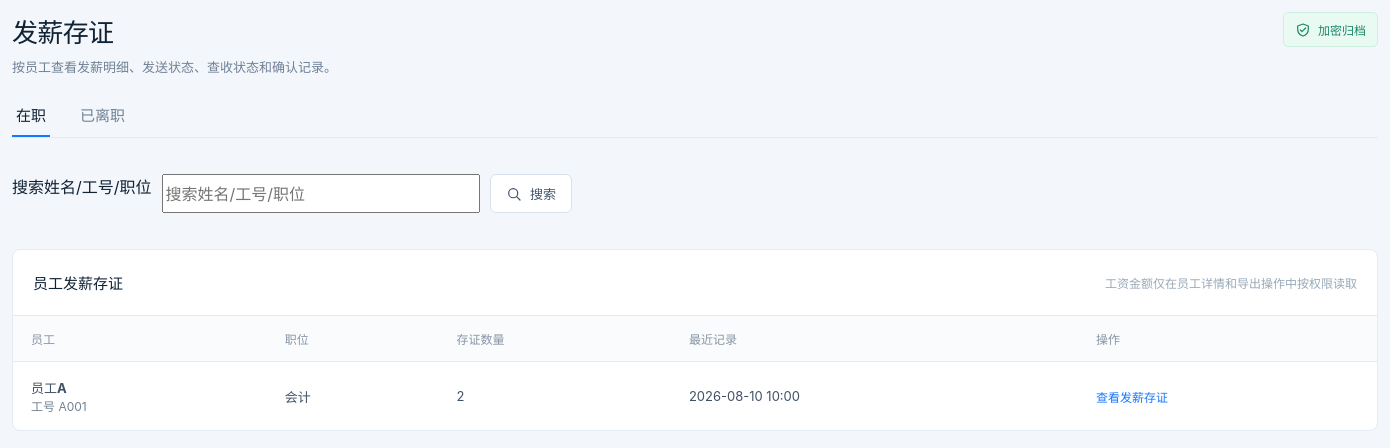
EvidenceCenter › renders employment tabs, search results, and employee detail statuses
Expected: the text "员工A" is shown, [31, 380, 67, 396]
Expected: the tab "在职" is shown, [12, 94, 50, 137]
Click the button "查看发薪存证".
click(1132, 396)  # box [1096, 386, 1168, 406]
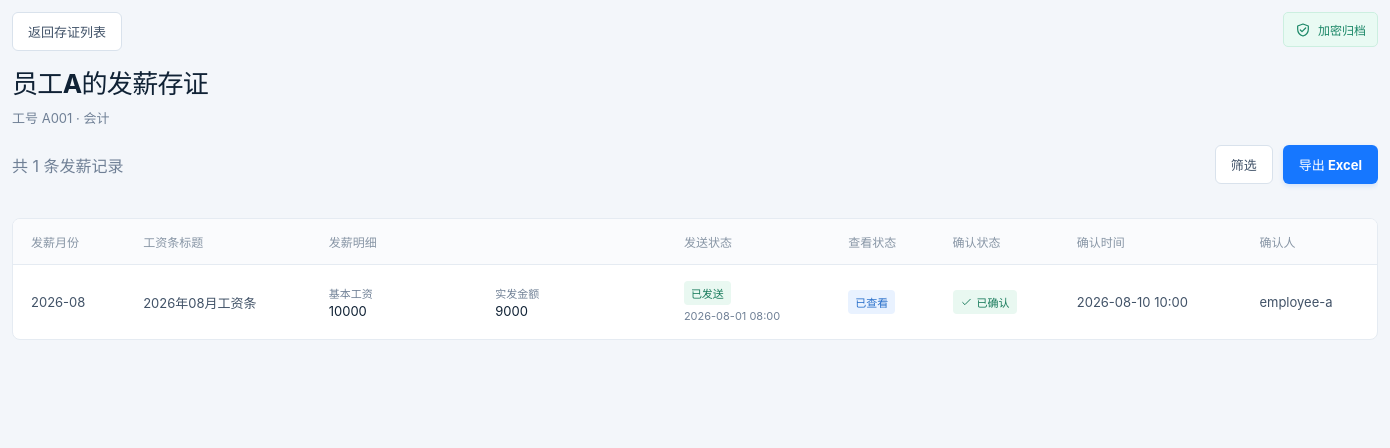
Expected: the text "已确认" is shown, [953, 290, 1017, 314]
Expected: the text "employee-a" is shown, [1241, 264, 1377, 339]
Expected: the text "实发金额" is shown, [495, 287, 539, 301]
